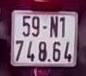1: (59, 15, 69, 38)
4: (63, 41, 73, 63), (26, 40, 36, 62)
5: (20, 14, 31, 37)
6: (52, 40, 62, 63)
7: (14, 39, 24, 62)
8: (37, 40, 48, 62)
9: (32, 15, 42, 39)
N: (49, 14, 58, 39)
